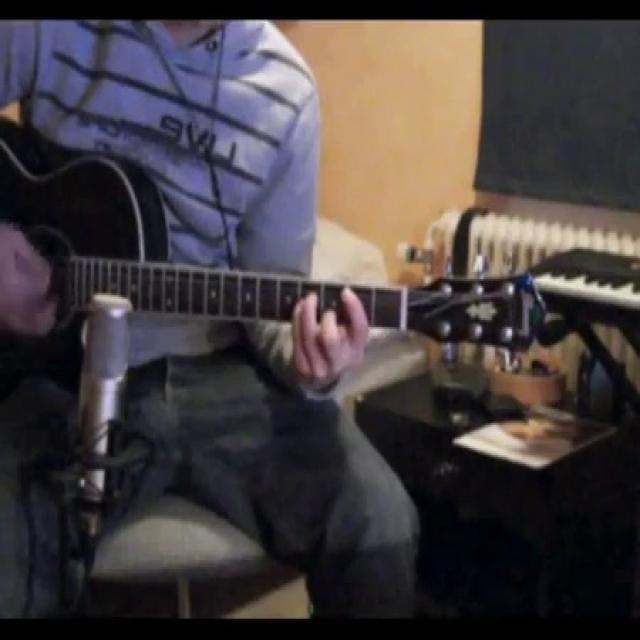Guitar: (0, 101, 551, 411)
Piano: (521, 239, 640, 318)
